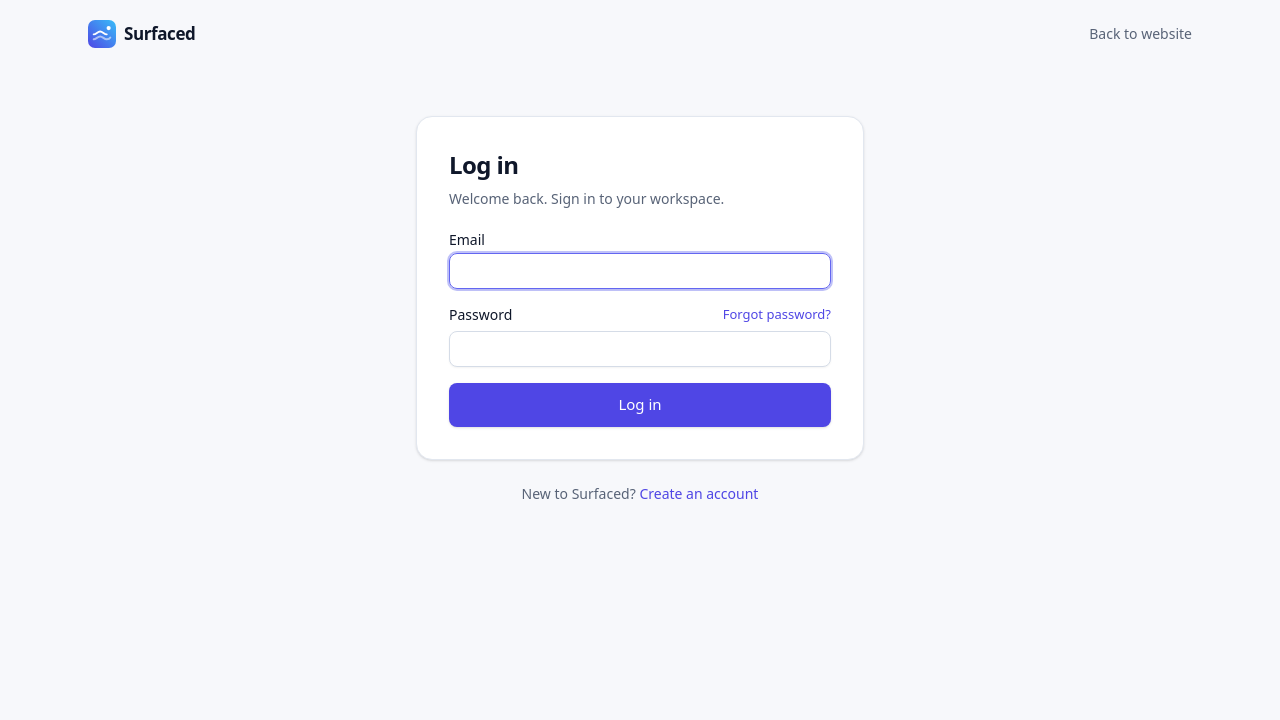
Test: LoginPage › shows the API error for disabled accounts
In the field labelled "Email": (640, 271) left=449, top=253, right=831, bottom=289, type "person@example.com"
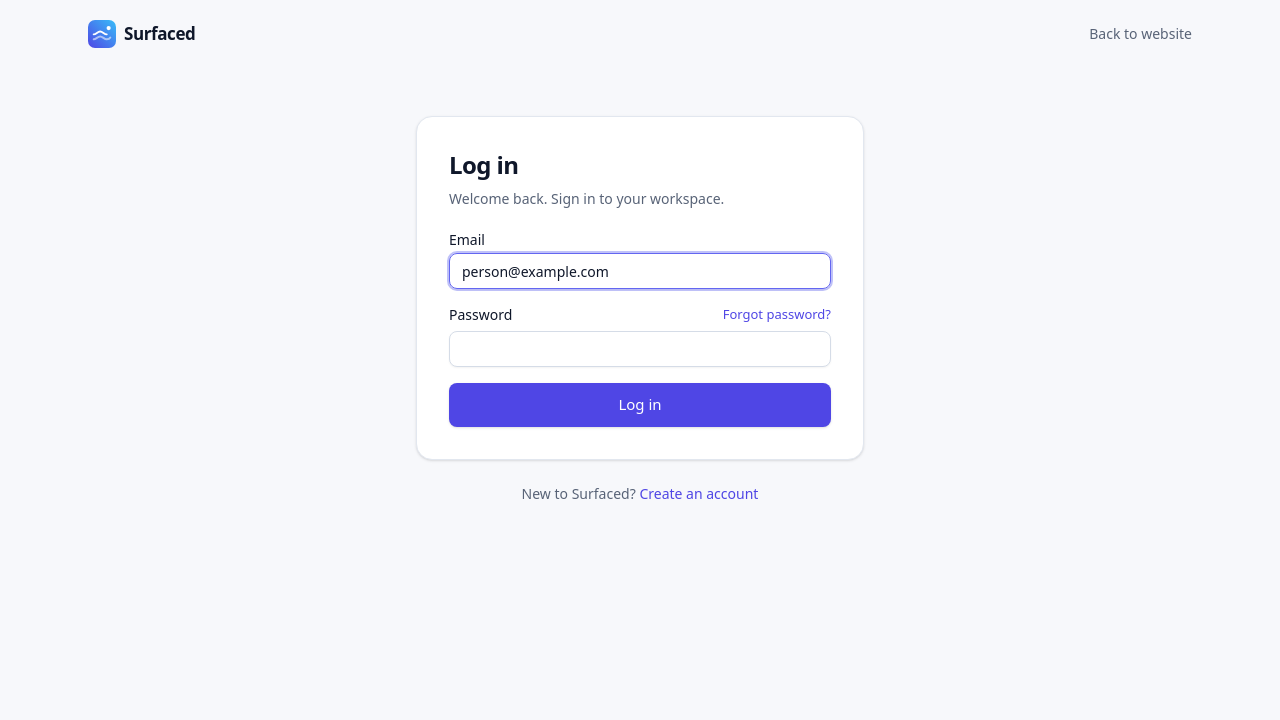
In the password field labelled "Password": (640, 348) left=449, top=330, right=831, bottom=366, type "some-password"
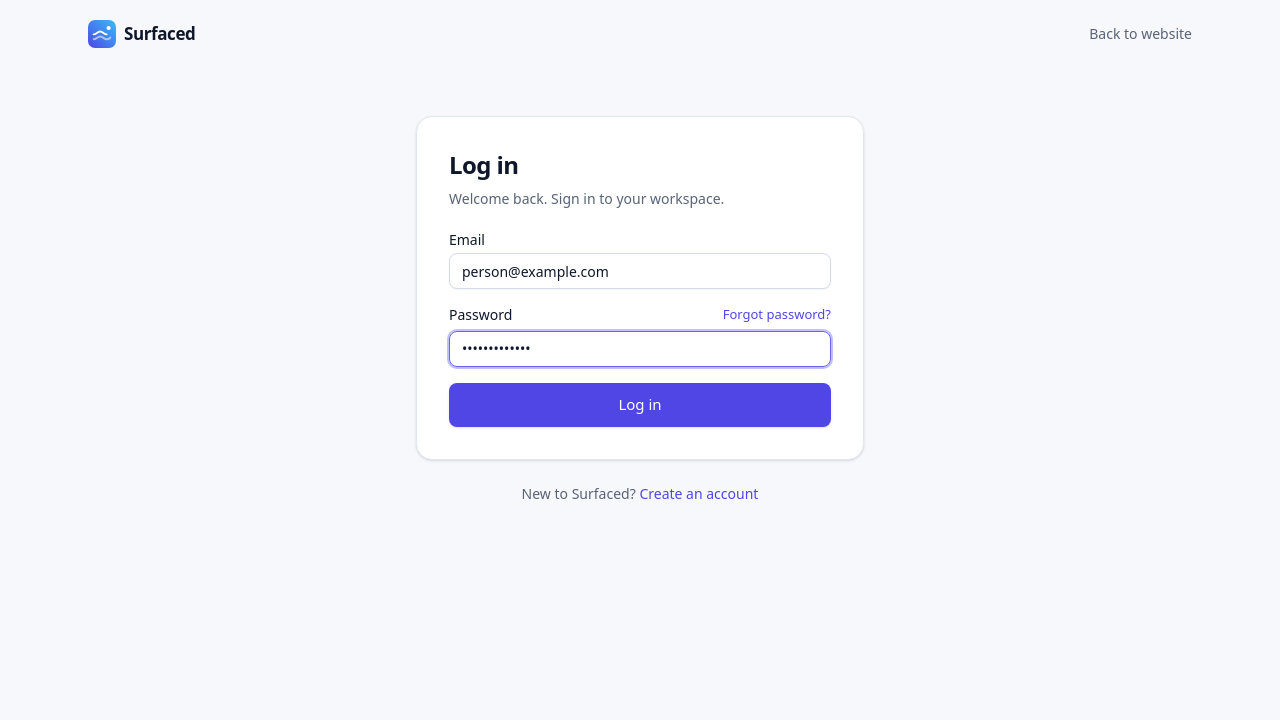
Click the button "Log in": (640, 404) left=449, top=382, right=831, bottom=426
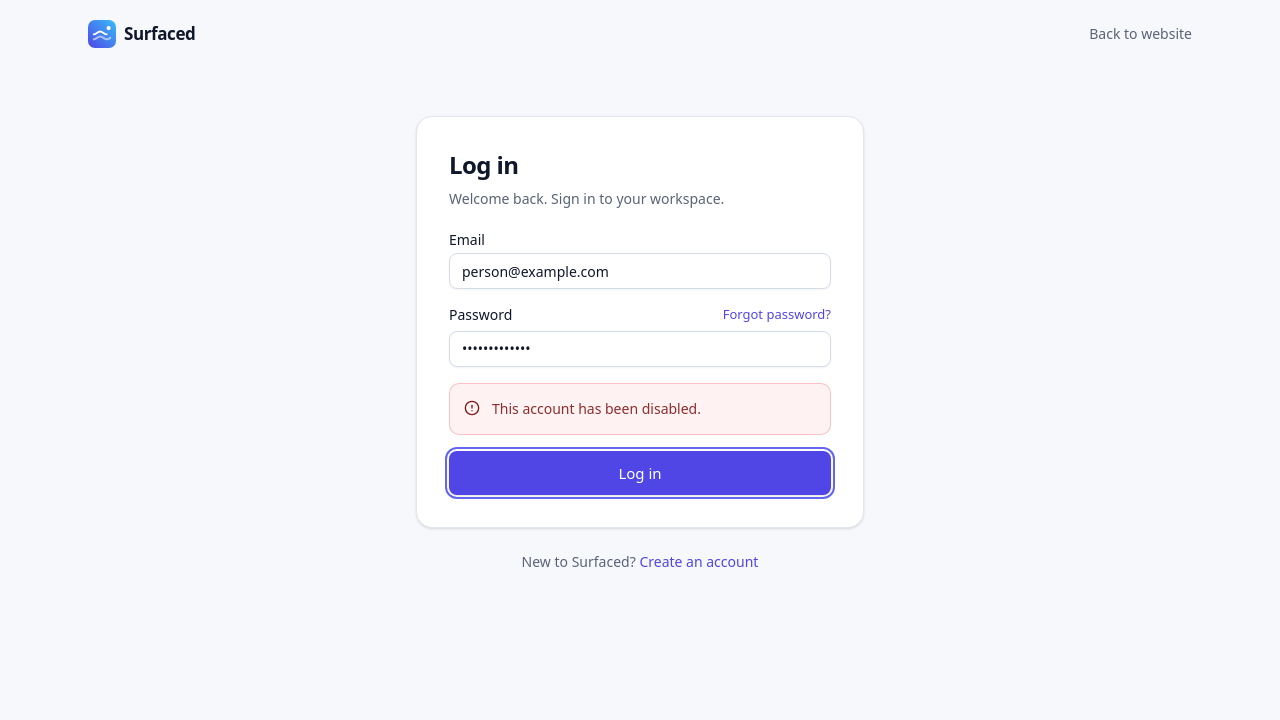
Check: the text "This account has been disabled." is shown, box left=492, top=398, right=701, bottom=418
